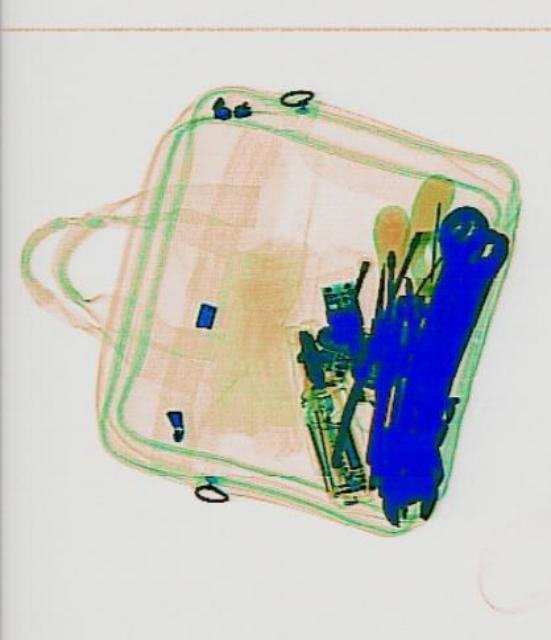Wrench: (369, 197, 495, 533)
